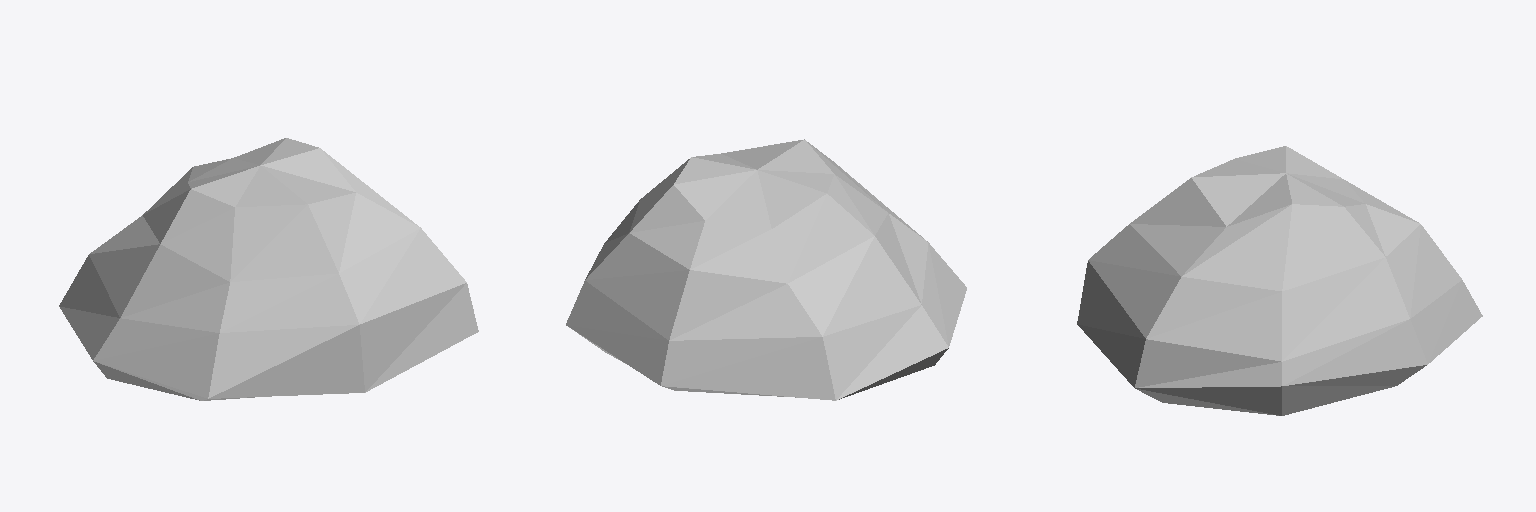
The model's file is SmallRock03_mesh.obj.
3 renders of one model, left to right at view 1: azimuth 30°, elevation 25°; view 2: azimuth 150°, elevation 25°; view 3: azimuth 270°, elevation 25°, orthographic.
Visible parts, largest first — view 1: SmallRock03_mesh SmallRock03 SmallRocks; view 2: SmallRock03_mesh SmallRock03 SmallRocks; view 3: SmallRock03_mesh SmallRock03 SmallRocks.
Part boxes in pixels (x1,y1,x2,y2): SmallRock03_mesh SmallRock03 SmallRocks: (59,138,478,400); SmallRock03_mesh SmallRock03 SmallRocks: (566,139,966,400); SmallRock03_mesh SmallRock03 SmallRocks: (1077,146,1482,415).
Size of the model in its own units: 312 by 150 by 319.